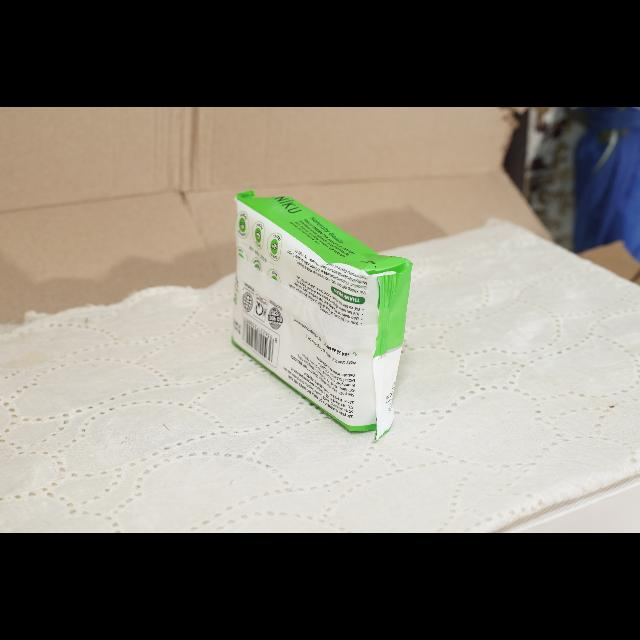khan_giay: (232, 191, 412, 440)
